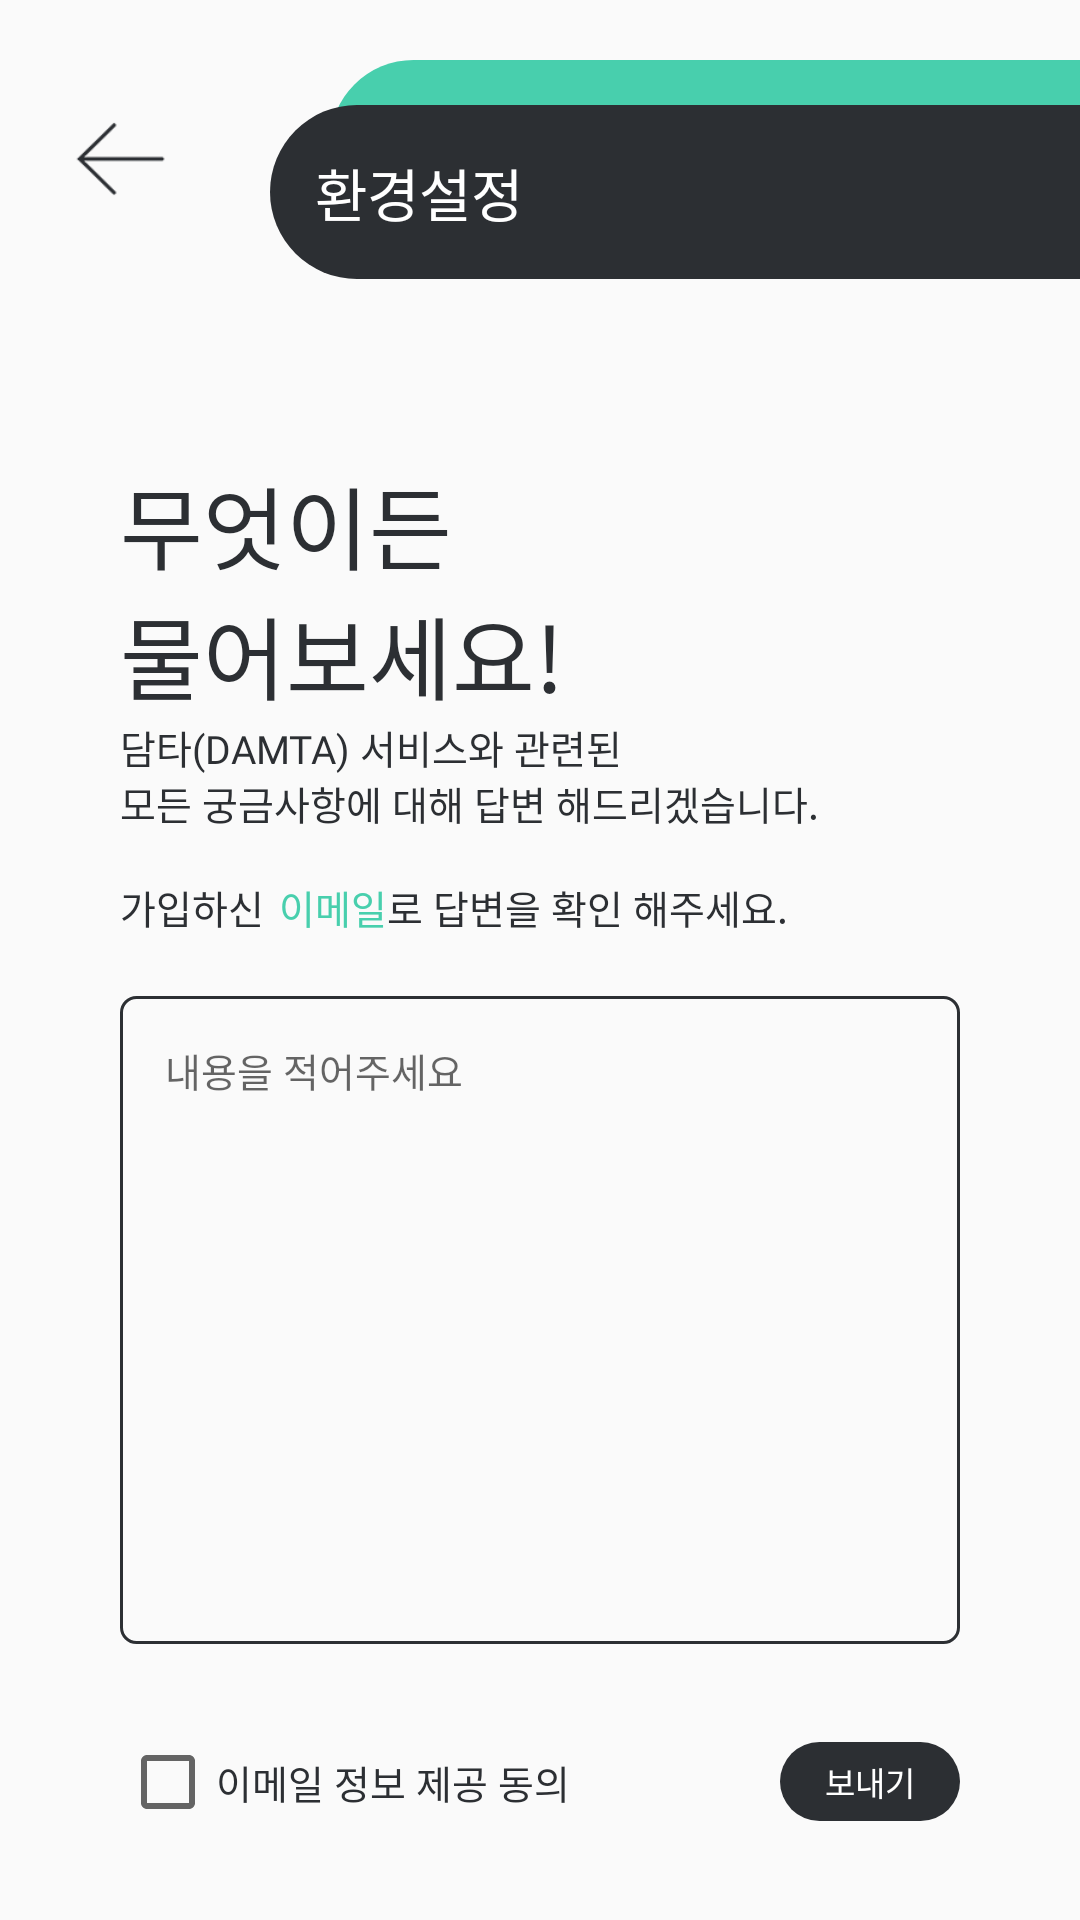

Named icons in this screenshot (1080 × 1920) and their centers, (x=x, y=y):
back arrow: (x=121, y=159)
